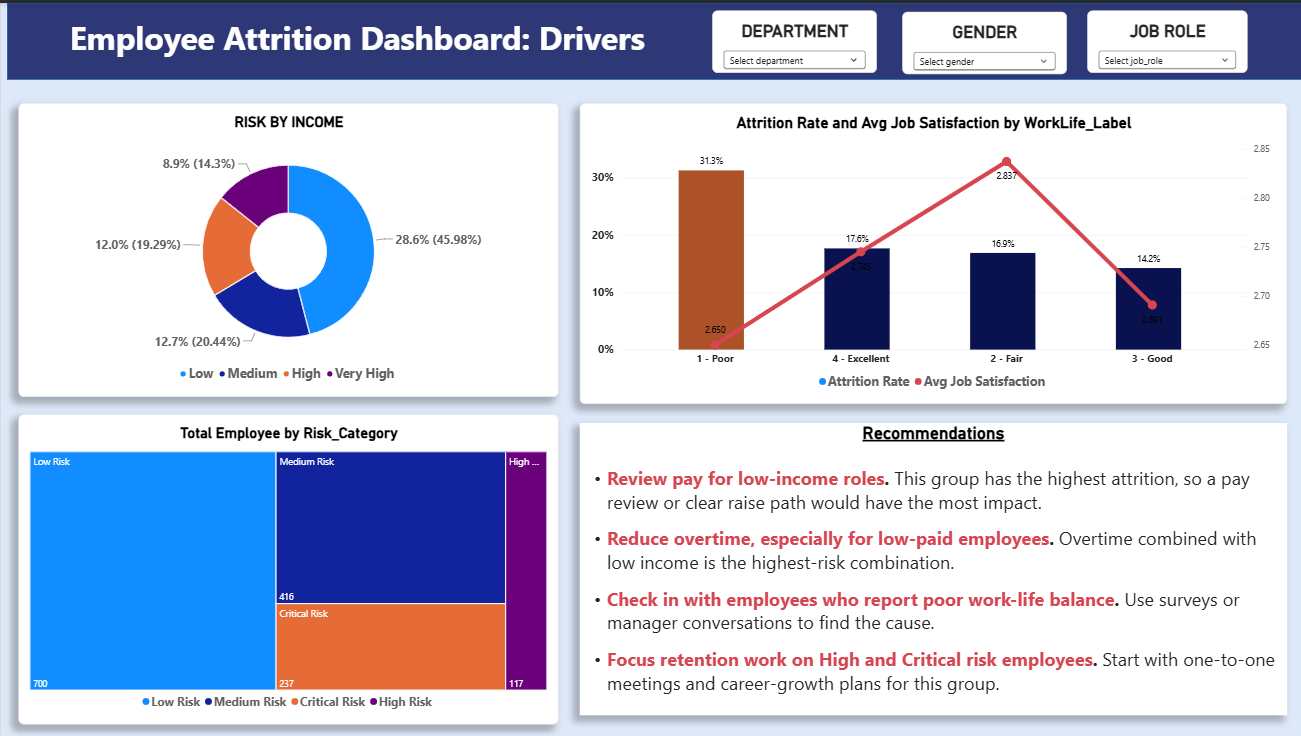

The page's visual inventory and layout, read from the dashboard file:
{"tool":"powerbi","page":{"name":"Attrition Drivers.","canvas":[1920,1080],"ordinal":2},"visuals":[{"type":"shape","box":[9.2,0,1909,113],"z":0},{"type":"treemap","fields":{"Group":["public employee_attrition.Risk_Category"],"Values":["public employee_attrition.Total Employee"]},"box":[25.8,605.5,795.1,456.4],"z":1000},{"type":"lineClusteredColumnComboChart","fields":{"Category":["public employee_attrition.WorkLife_Label"],"Y":["public employee_attrition.Attrition Rate"],"Y2":["public employee_attrition.Avg Job Satisfaction"]},"box":[852.2,147.2,1041.7,443.6],"z":2000},{"type":"donutChart","title":"RISK BY INCOME","fields":{"Category":["public employee_attrition.income_group"],"Y":["public employee_attrition.Attrition Rate"]},"box":[25.8,147.2,795.1,432.5],"z":3000},{"type":"listSlicer","title":"DEPARTMENT","fields":{"Values":["public employee_attrition.department"]},"box":[1047.2,11,242,92],"z":4000},{"type":"listSlicer","title":"GENDER","fields":{"Values":["public employee_attrition.gender"]},"box":[1327,12.9,242,92],"z":5000},{"type":"listSlicer","title":"JOB ROLE","fields":{"Values":["public employee_attrition.job_role"]},"box":[1599.4,11,236,92],"z":6000},{"type":"textbox","title":"Recommendations","box":[852.2,618.4,1041.7,430.7],"z":7000},{"type":"textbox","title":"Employee Attrition Dashboard: Drivers","box":[101.2,18.4,914.7,106.7],"z":8000}]}

Visuals, with their boxes in screenshot pixels (x1, y1, x2, y2), scaled from the page's 1920x1080 canvas onto the 1301x736 screenshot:
shape: (6, 0, 1300, 77)
treemap - public employee_attrition.Risk_Category x public employee_attrition.Total Employee: (17, 413, 556, 724)
lineClusteredColumnComboChart - public employee_attrition.WorkLife_Label x public employee_attrition.Attrition Rate: (577, 100, 1283, 403)
"RISK BY INCOME" donutChart: (17, 100, 556, 395)
"DEPARTMENT" listSlicer: (710, 7, 874, 70)
"GENDER" listSlicer: (899, 9, 1063, 71)
"JOB ROLE" listSlicer: (1084, 7, 1244, 70)
"Recommendations" textbox: (577, 421, 1283, 715)
"Employee Attrition Dashboard: Drivers" textbox: (69, 13, 688, 85)
